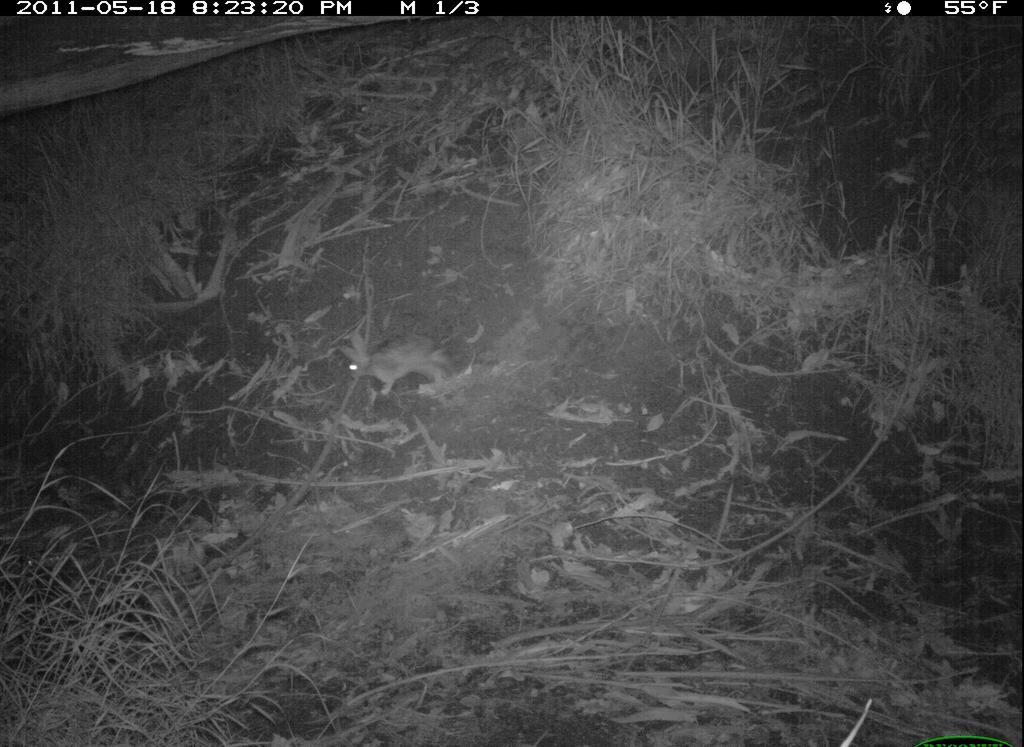rabbit: (329, 324, 469, 400)
